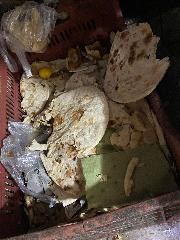organic: (38, 87, 118, 193), (95, 6, 173, 102), (122, 144, 154, 202), (40, 61, 55, 84)
